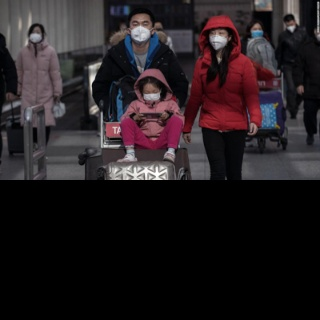with_mask: (129, 19, 153, 43), (208, 28, 229, 50), (140, 87, 161, 101), (29, 28, 44, 43), (249, 26, 263, 36), (285, 21, 296, 33)
